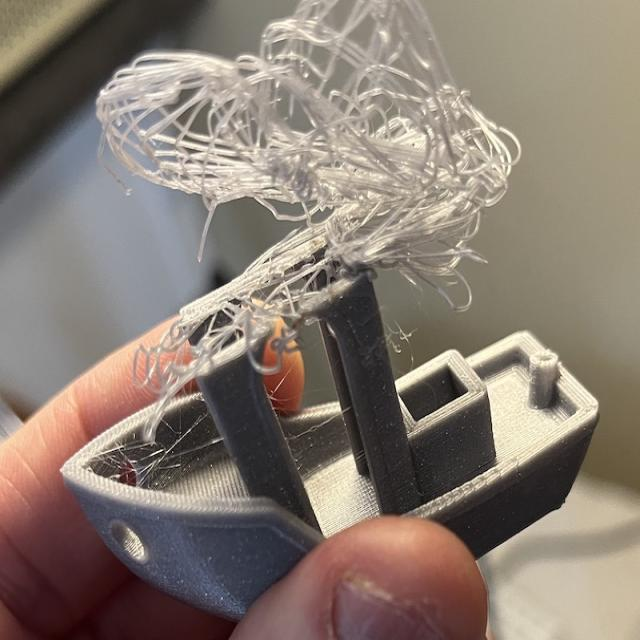spaghetti: (83, 12, 523, 294)
